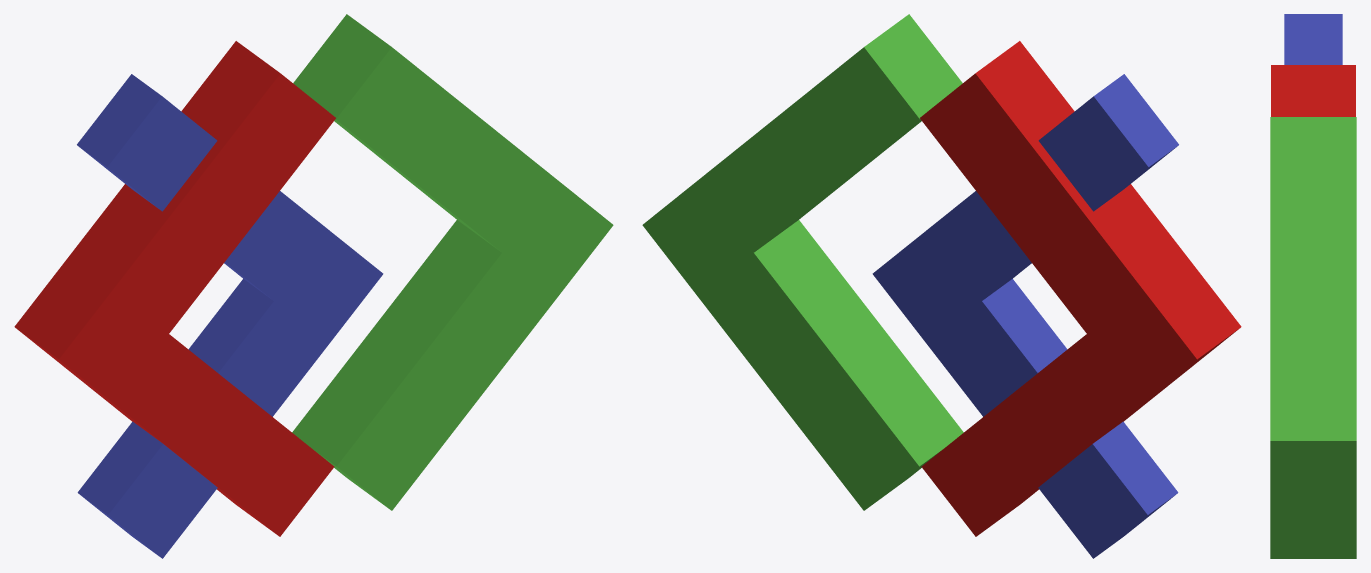
The model's file is imac.fbx.
3 renders of one model, left to right at view 1: azimuth 30°, elevation 25°; view 2: azimuth 150°, elevation 25°; view 3: azimuth 270°, elevation 25°, orthographic. The views are drawn at different scales.
Parts seen in each view (by area): view 1: Cube.001; view 2: Cube.001; view 3: Cube.001.
Boxes of the visible parts, x1,y1,x2,y2 form: Cube.001: (14, 14, 613, 558); Cube.001: (642, 14, 1241, 558); Cube.001: (1270, 14, 1356, 558).
Bounding box in the file's own units: 311 × 249 × 43.96.
